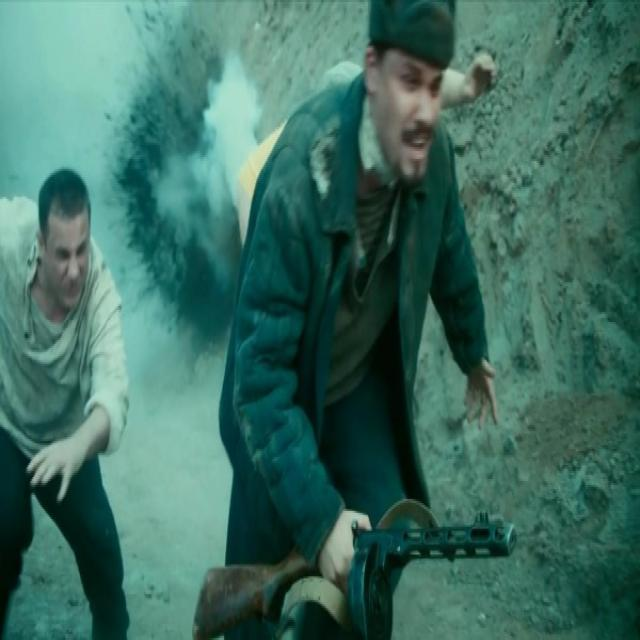rifle: (193, 514, 521, 640)
